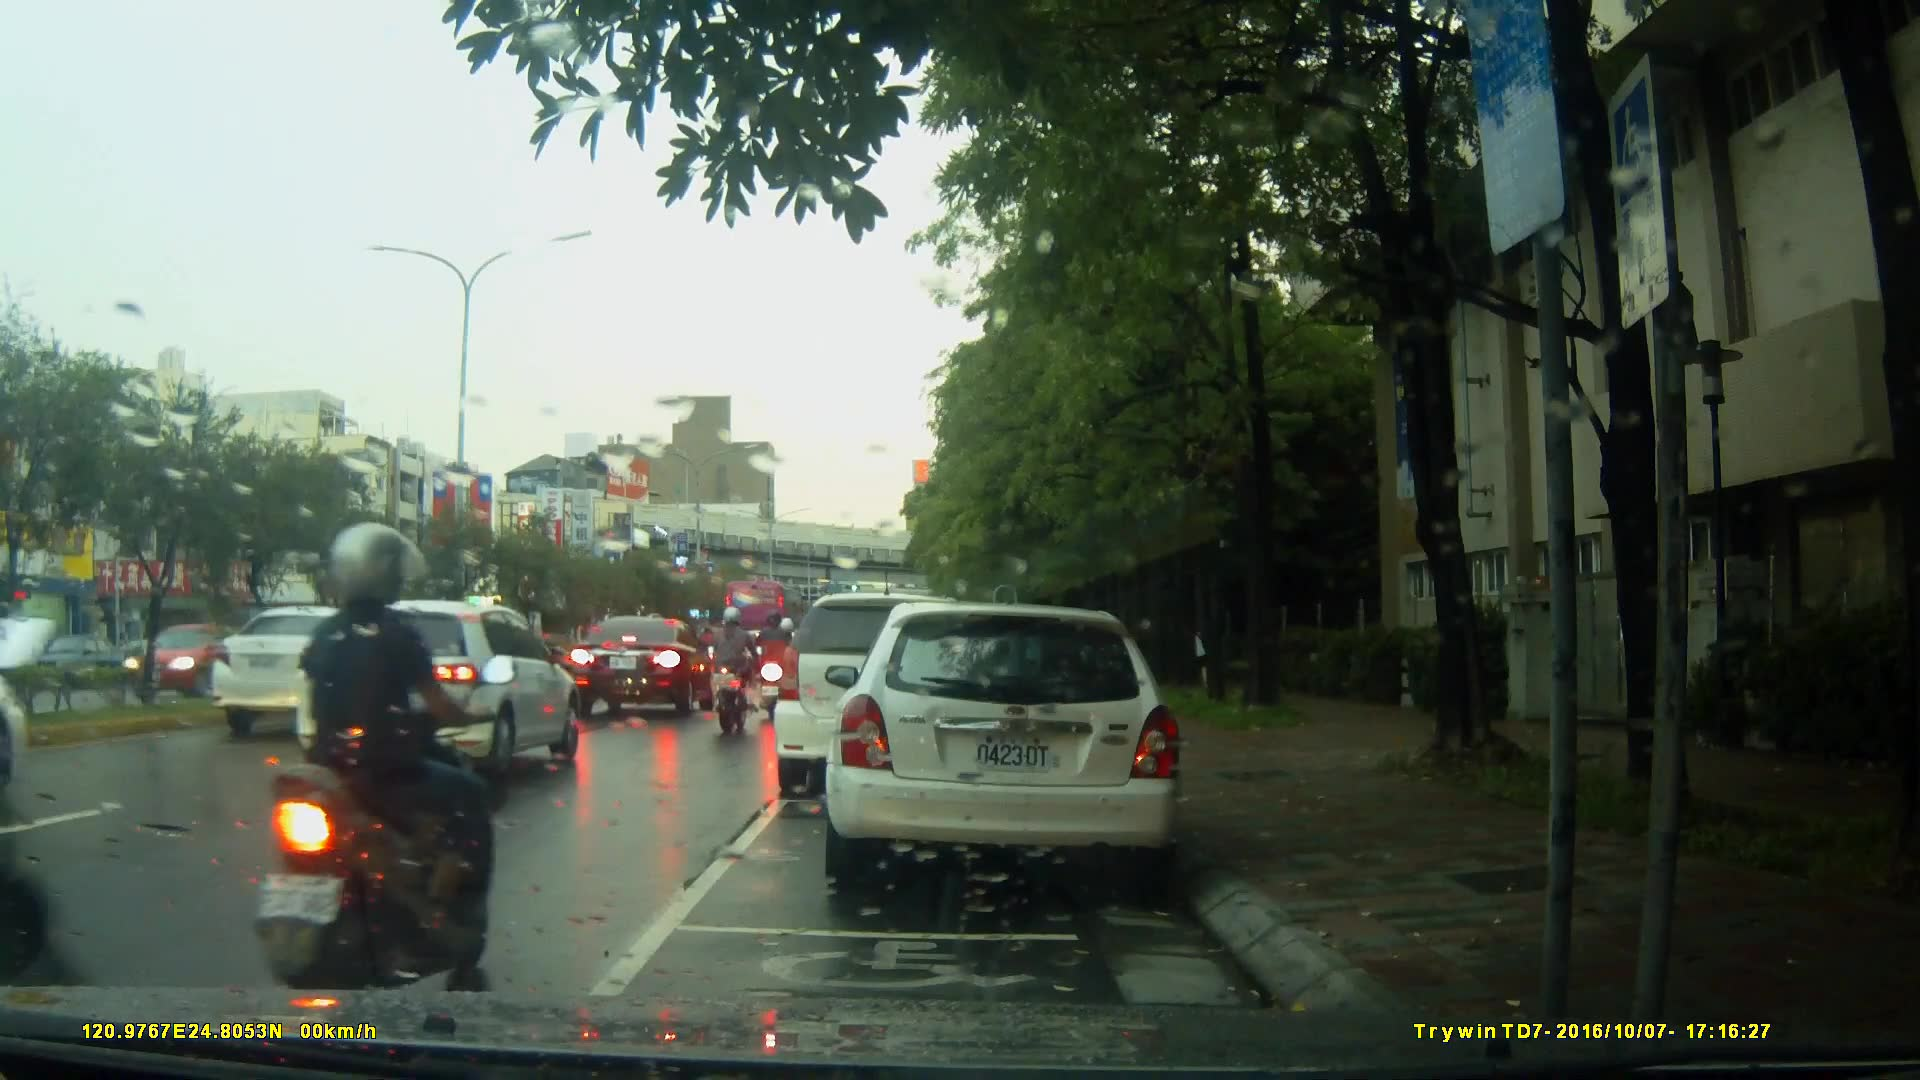rider: (251, 524, 514, 999), (705, 606, 763, 743), (756, 608, 799, 722)
vehicle: (835, 594, 1194, 898), (290, 597, 582, 781), (776, 590, 1026, 784), (564, 614, 719, 719), (723, 579, 807, 649)
